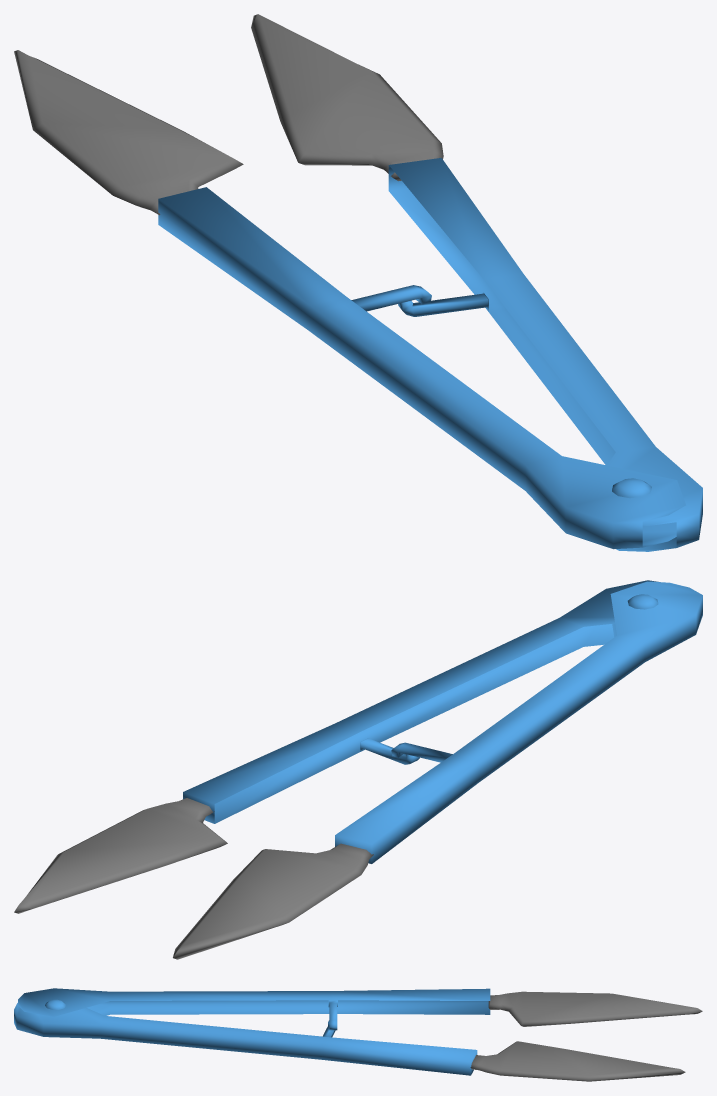
The model's file is item_Fashion_GuntingBenang.fbx.
3 views of the same model, one above another, from view 1: azimuth 30°, elevation 25°; view 2: azimuth 150°, elevation 25°; view 3: azimuth 270°, elevation 25° (orthographic). The views are drawn at different scales.
Parts seen in each view (by area): view 1: GuntingBenang; view 2: GuntingBenang; view 3: GuntingBenang.
Boxes of the visible parts, x1,y1,x2,y2 form: GuntingBenang: [14, 14, 702, 551]; GuntingBenang: [14, 580, 702, 959]; GuntingBenang: [14, 988, 702, 1081].
Bounding box in the file's own units: 35.04 × 4.76 × 120.
